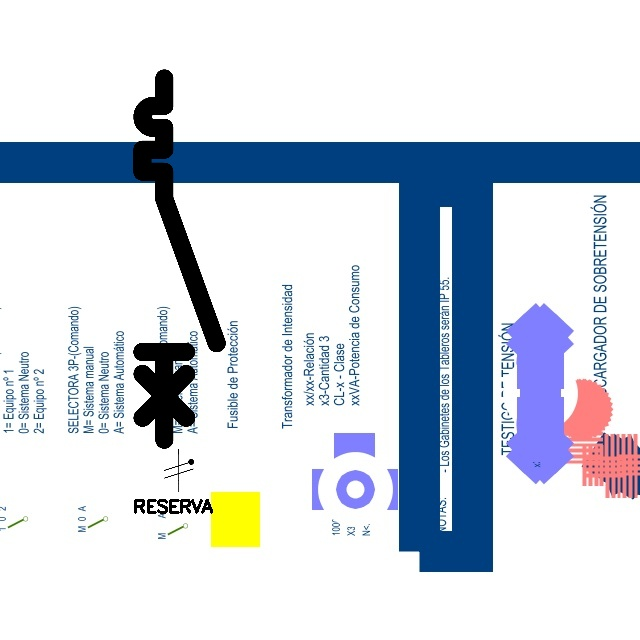interruptor_termomagnetico: (133, 69, 226, 449)
